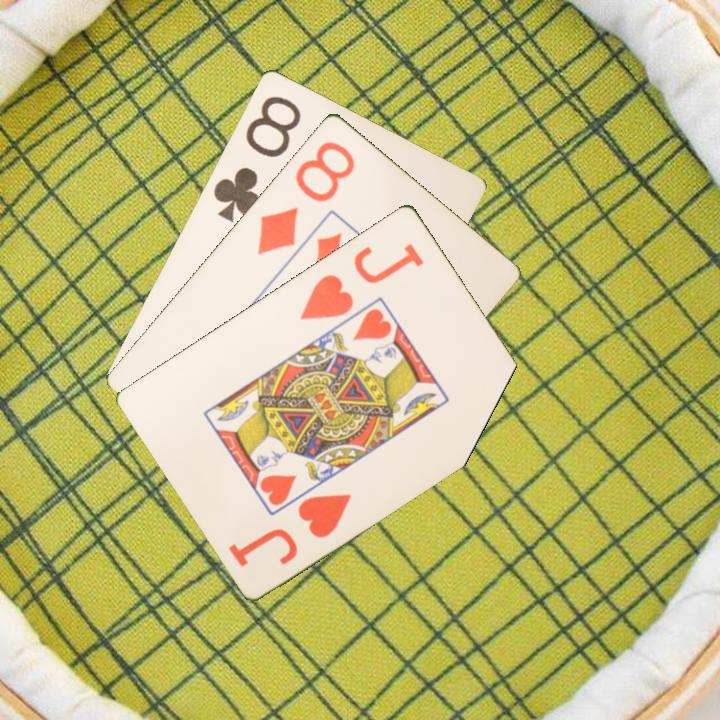8c: (209, 91, 304, 225)
8d: (253, 137, 358, 258)
Jh: (296, 239, 427, 323), (294, 489, 355, 541)
